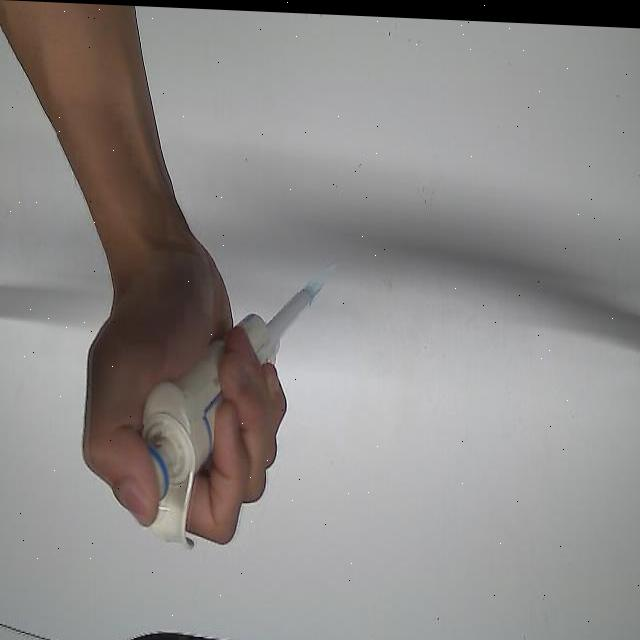Single Channel Pipettor: (137, 271, 320, 552)
